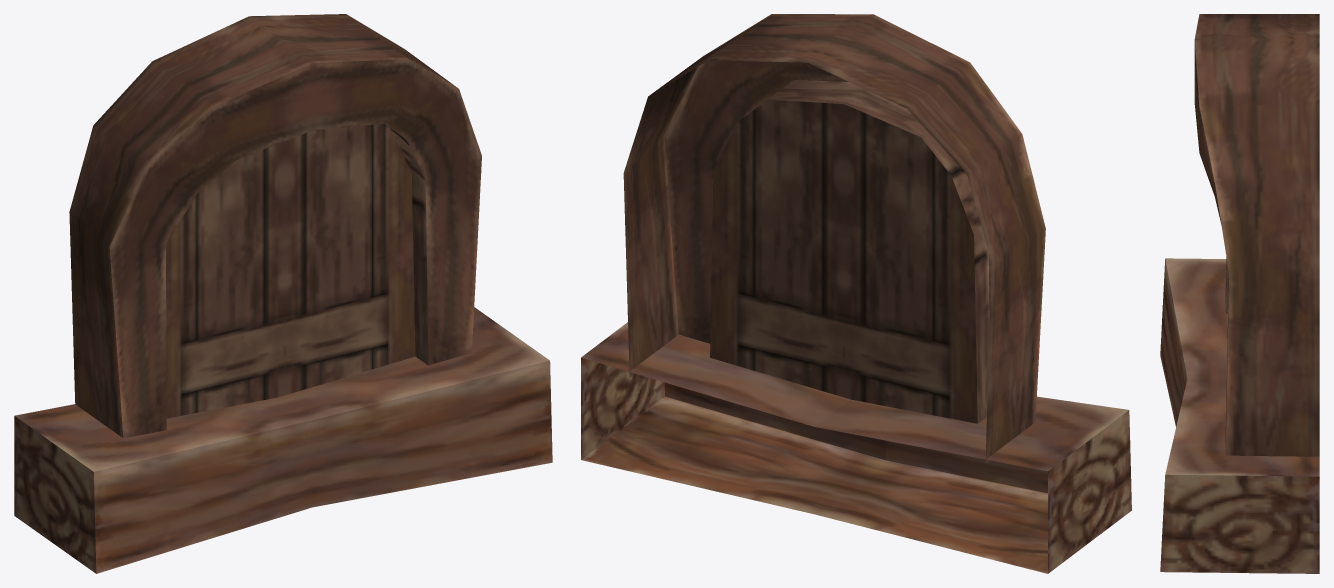
File: window_round_closeLOD.fbx
The picture shows the model from 3 angles, left to right: view 1: azimuth 30°, elevation 25°; view 2: azimuth 150°, elevation 25°; view 3: azimuth 270°, elevation 25°; orthographic projection. The views are drawn at different scales.
Visible parts, largest first — view 1: janel_redonda_fechada_LOD0; view 2: janel_redonda_fechada_LOD0; view 3: janel_redonda_fechada_LOD0.
Boxes of the visible parts, x1=… form: janel_redonda_fechada_LOD0: x1=14, y1=14, x2=552, y2=573; janel_redonda_fechada_LOD0: x1=581, y1=14, x2=1131, y2=573; janel_redonda_fechada_LOD0: x1=1160, y1=14, x2=1319, y2=573.
Size of what is drawn, in the model's own units: 68.75 by 63.71 by 21.41.
